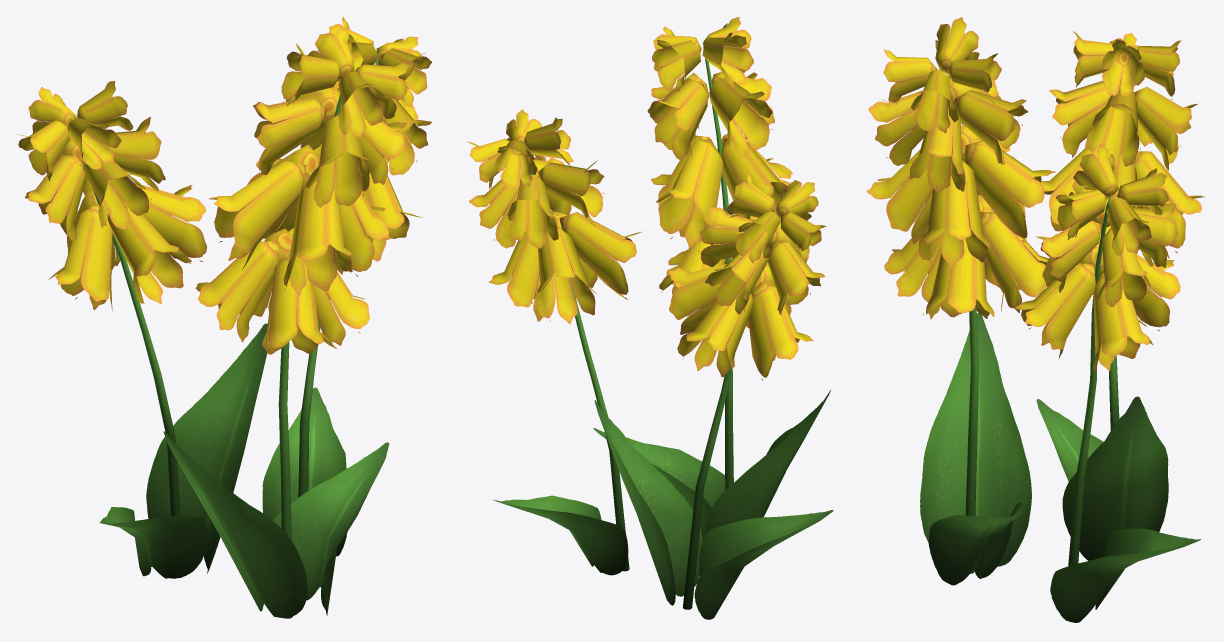
File: Flower_4_Group.glb
The picture shows the model from 3 angles, left to right: view 1: azimuth 30°, elevation 25°; view 2: azimuth 150°, elevation 25°; view 3: azimuth 270°, elevation 25°; orthographic projection. The views are drawn at different scales.
Parts seen in each view (by area): view 1: Flower_4_Group; view 2: Flower_4_Group; view 3: Flower_4_Group.
Boxes of the visible parts, bbox=[...] form: Flower_4_Group: bbox=[17, 17, 431, 618]; Flower_4_Group: bbox=[467, 17, 833, 619]; Flower_4_Group: bbox=[866, 17, 1205, 622].
Bounding box in the file's own units: 1.78 × 2.49 × 1.37.
2 materials, 2 textured.
